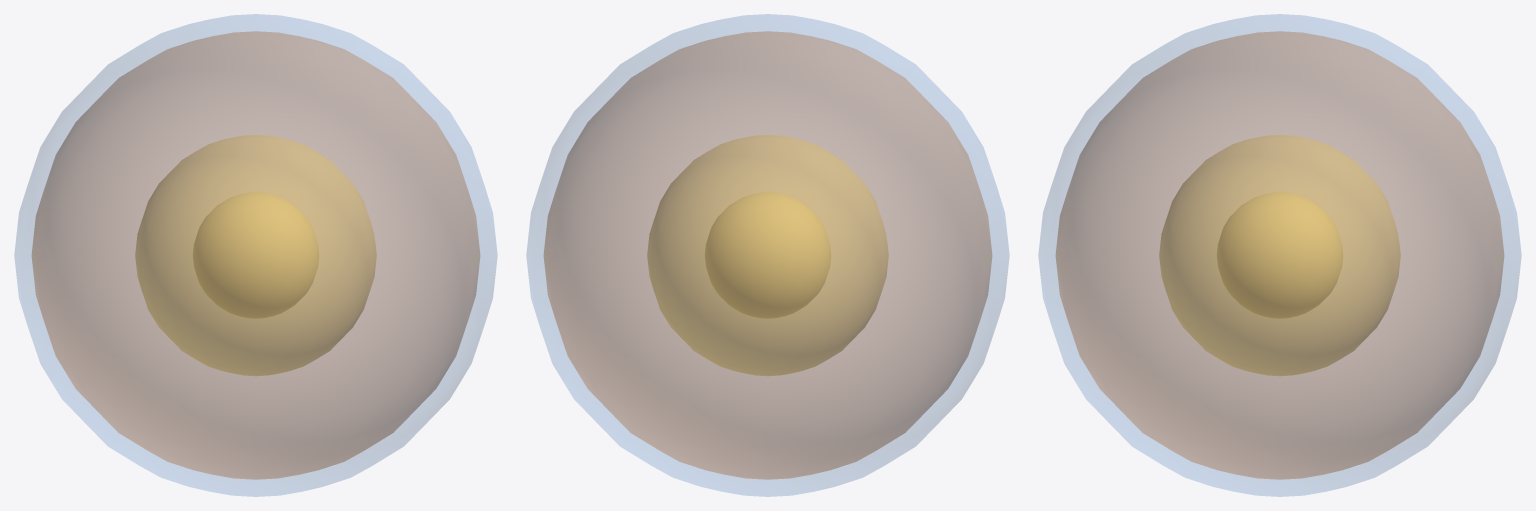
Rendered from earth-layers.glb.
3 renders of one model, left to right at view 1: azimuth 30°, elevation 25°; view 2: azimuth 150°, elevation 25°; view 3: azimuth 270°, elevation 25°, orthographic.
Parts seen in each view (by area): view 1: Crust, Mantle, Outer core, Inner core; view 2: Crust, Mantle, Outer core, Inner core; view 3: Crust, Mantle, Outer core, Inner core.
Boxes of the visible parts, left/top/right/bottom form: Crust: left=14, top=14, right=497, bottom=496; Mantle: left=32, top=31, right=479, bottom=479; Outer core: left=135, top=134, right=376, bottom=376; Inner core: left=193, top=192, right=318, bottom=318; Crust: left=526, top=14, right=1009, bottom=496; Mantle: left=544, top=31, right=991, bottom=479; Outer core: left=647, top=134, right=888, bottom=376; Inner core: left=705, top=192, right=830, bottom=318; Crust: left=1038, top=14, right=1521, bottom=496; Mantle: left=1056, top=31, right=1503, bottom=479; Outer core: left=1159, top=134, right=1400, bottom=376; Inner core: left=1217, top=192, right=1342, bottom=318.
Size of the model in its own units: 4.2 by 4.2 by 4.2.
